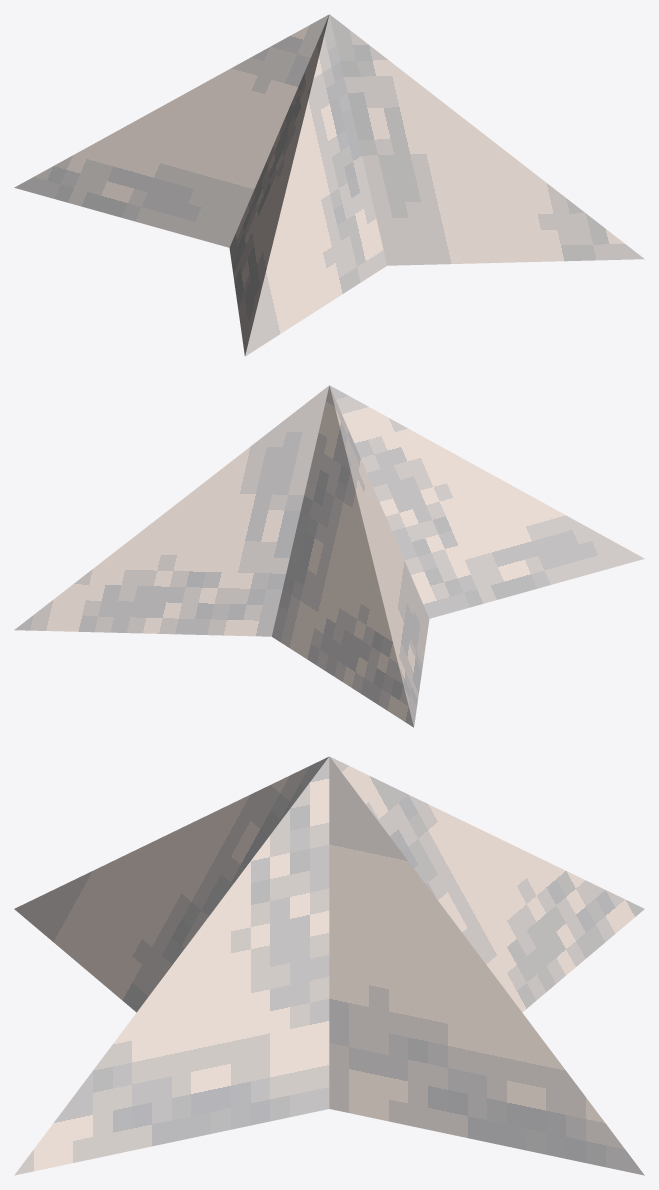
Rendered from psywheel_spinner.glb.
The picture shows the model from 3 angles, top to bottom: view 1: azimuth 30°, elevation 25°; view 2: azimuth 150°, elevation 25°; view 3: azimuth 270°, elevation 25°; orthographic projection. The views are drawn at different scales.
Visible parts, largest first — view 1: psywheel_spinner; view 2: psywheel_spinner; view 3: psywheel_spinner.
Boxes of the visible parts, x1,y1,x2,y2 form: psywheel_spinner: (14, 14, 644, 356); psywheel_spinner: (14, 385, 644, 727); psywheel_spinner: (14, 756, 644, 1175).
Size of the model in its own units: 8.77 by 4.38 by 8.77.
Materials: 1 (1 with a texture image).
